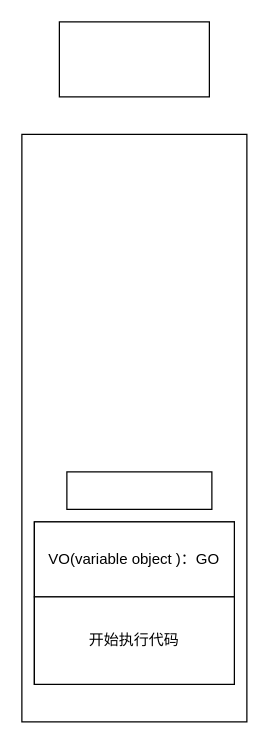
The diagram is 269 pixels wide and 744 high, and some of its shapes have lost their labels. Each missing label, with the box of its shape:
ECStack: (58, 21, 209, 97)
GEC: (66, 471, 212, 509)
